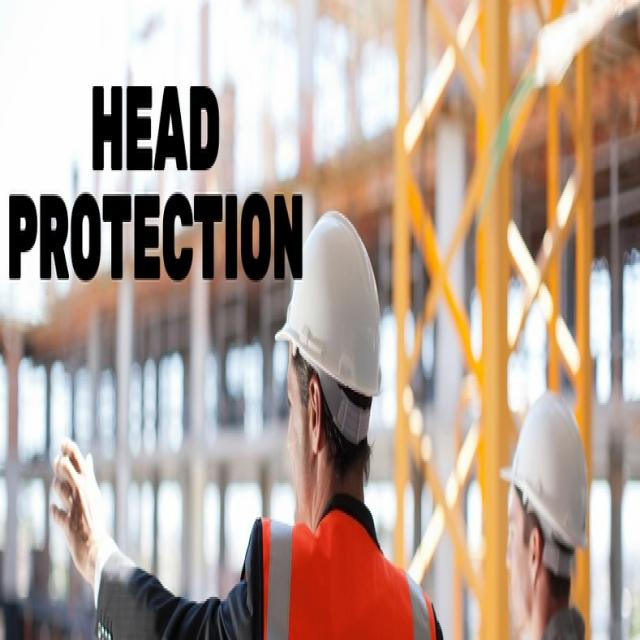Reflective-Jacket: (252, 502, 437, 640)
Safety-Helmet: (273, 198, 388, 405), (499, 379, 594, 556)
